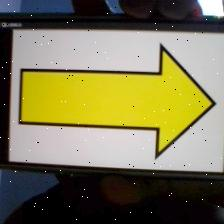right: (18, 42, 218, 161)
